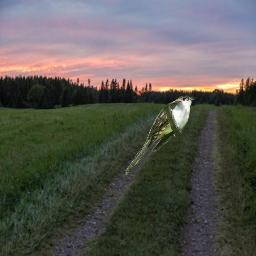Cuckoo: (124, 95, 197, 177)
